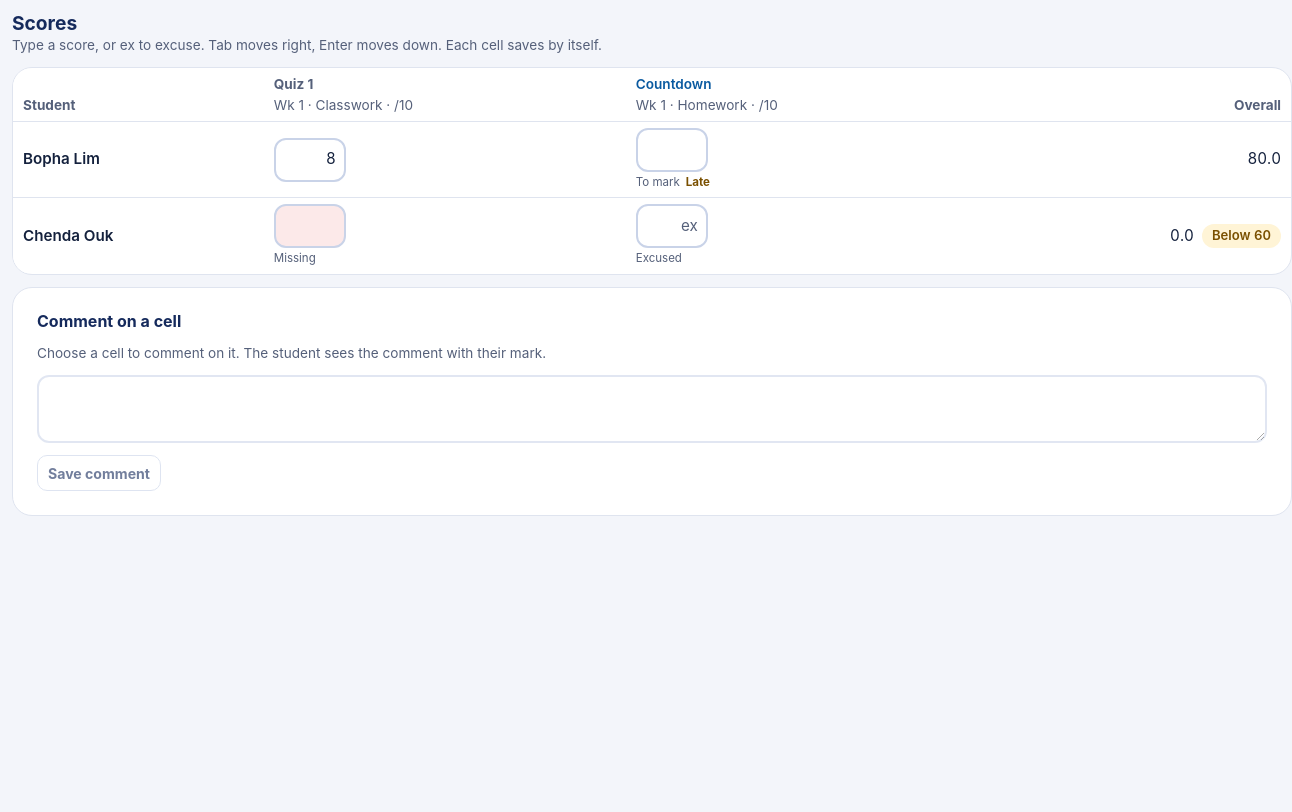
Test: GradebookGrid › keeps what was typed when a cell can’t be saved, and says why
Type "12" into the field named "Chenda Ouk, Quiz 1 (out of 10)" at (310, 226), box [274,204,346,248]
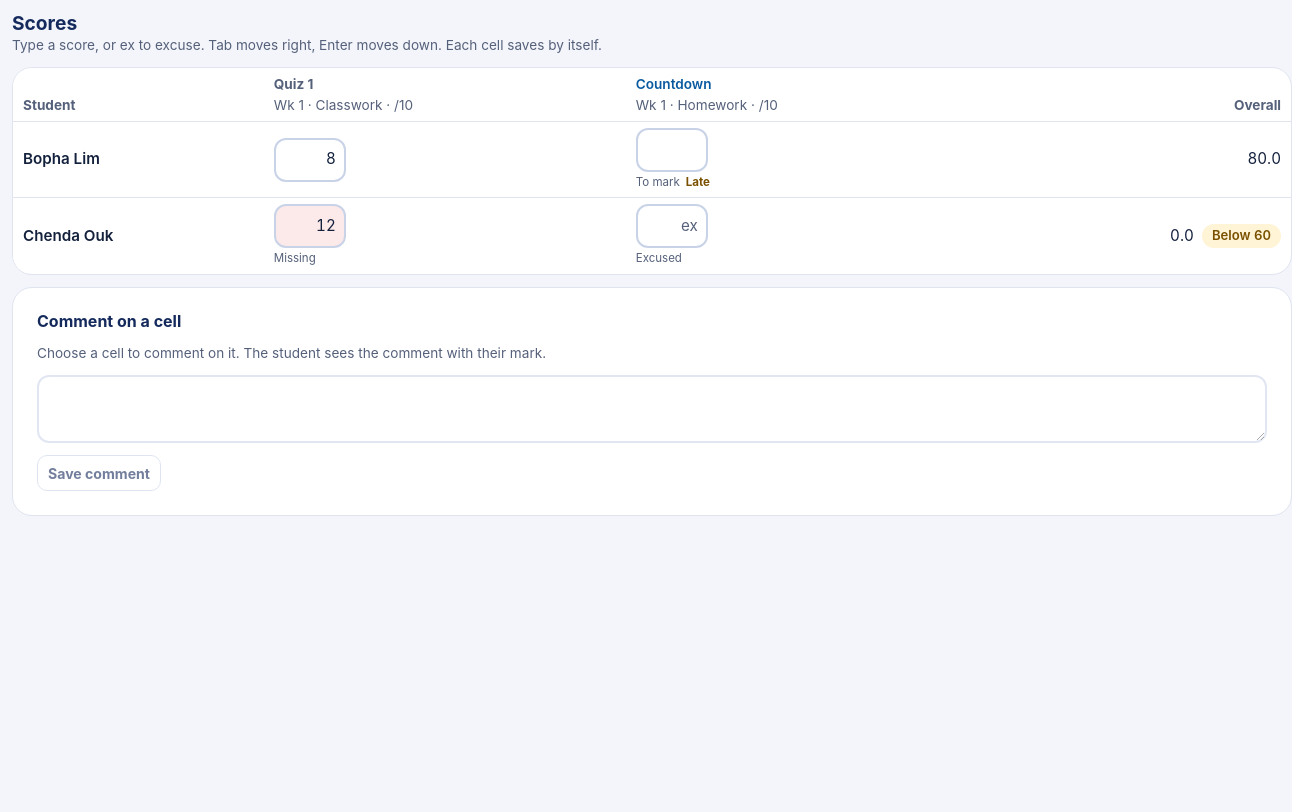
Leave the field named "Chenda Ouk, Quiz 1 (out of 10)", box [274,204,346,248]
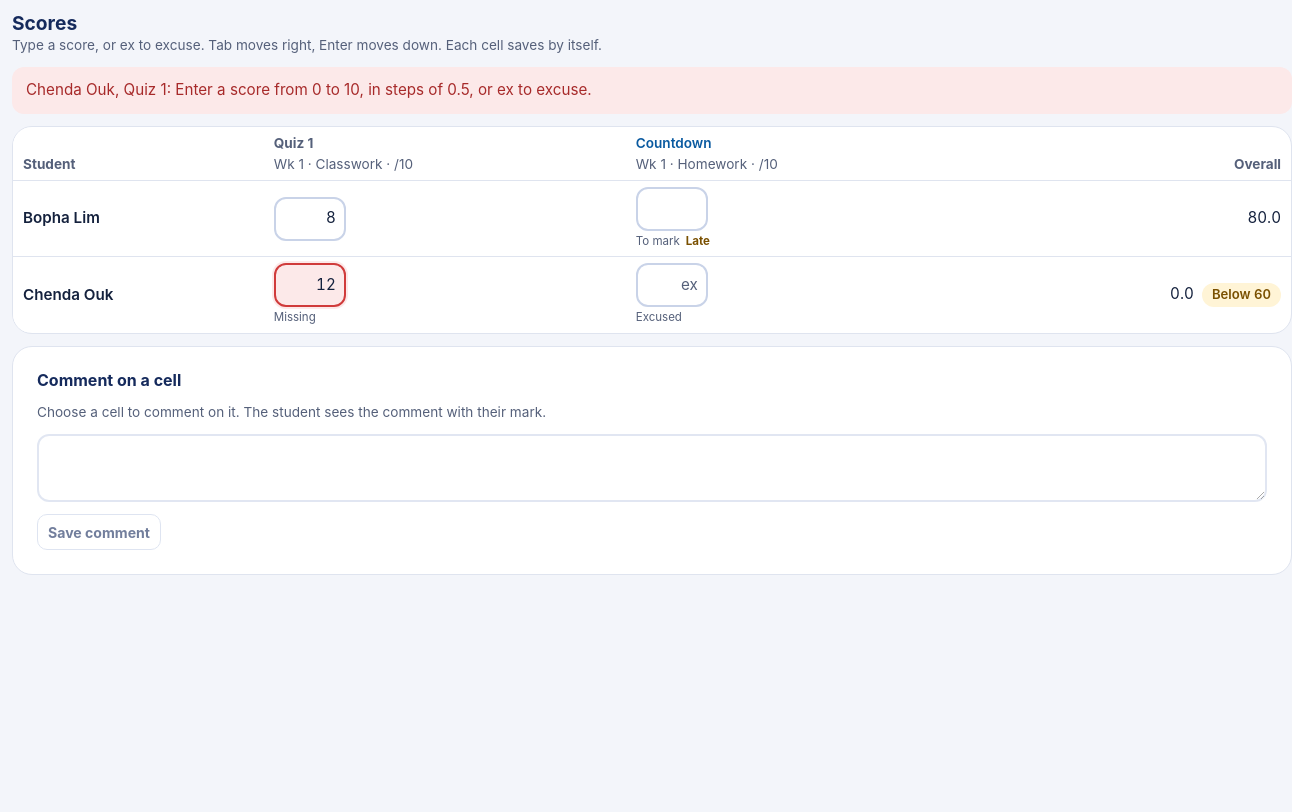
Now the message shows "Chenda Ouk, Quiz 1: Enter a score from 0 to 10, in steps of 0.5, or ex to excuse.", box [26,80,592,99]
